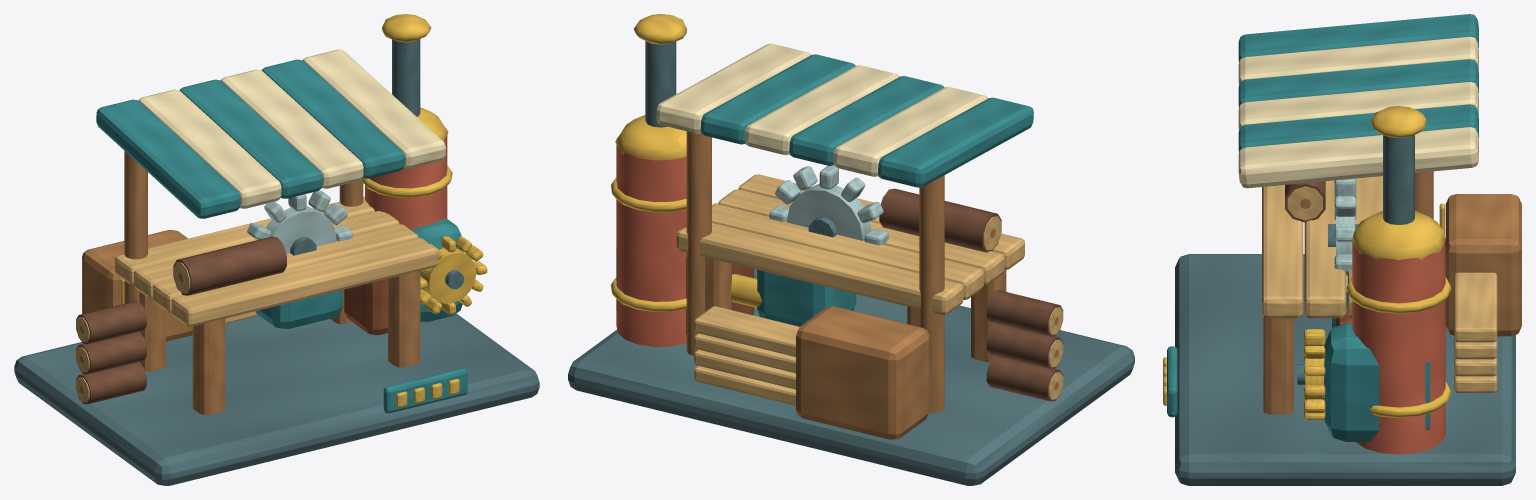
File: sawmill-tier-4.glb
3 renders of one model, left to right at view 1: azimuth 30°, elevation 25°; view 2: azimuth 150°, elevation 25°; view 3: azimuth 270°, elevation 25°, orthographic. The views are drawn at different scales.
Parts seen in each view (by area): view 1: sawmill-tier-4-body, saw-blade; view 2: sawmill-tier-4-body, saw-blade; view 3: sawmill-tier-4-body, saw-blade.
Boxes of the visible parts, x1,y1,x2,y2 form: sawmill-tier-4-body: (14,14,539,485); saw-blade: (247,190,352,255); sawmill-tier-4-body: (568,14,1134,485); saw-blade: (769,165,888,245); sawmill-tier-4-body: (1163,14,1521,485); saw-blade: (1328,178,1358,295).
Size of the model in its own units: 3.76 by 2.96 by 2.68.
Materials: 1 (1 with a texture image).
